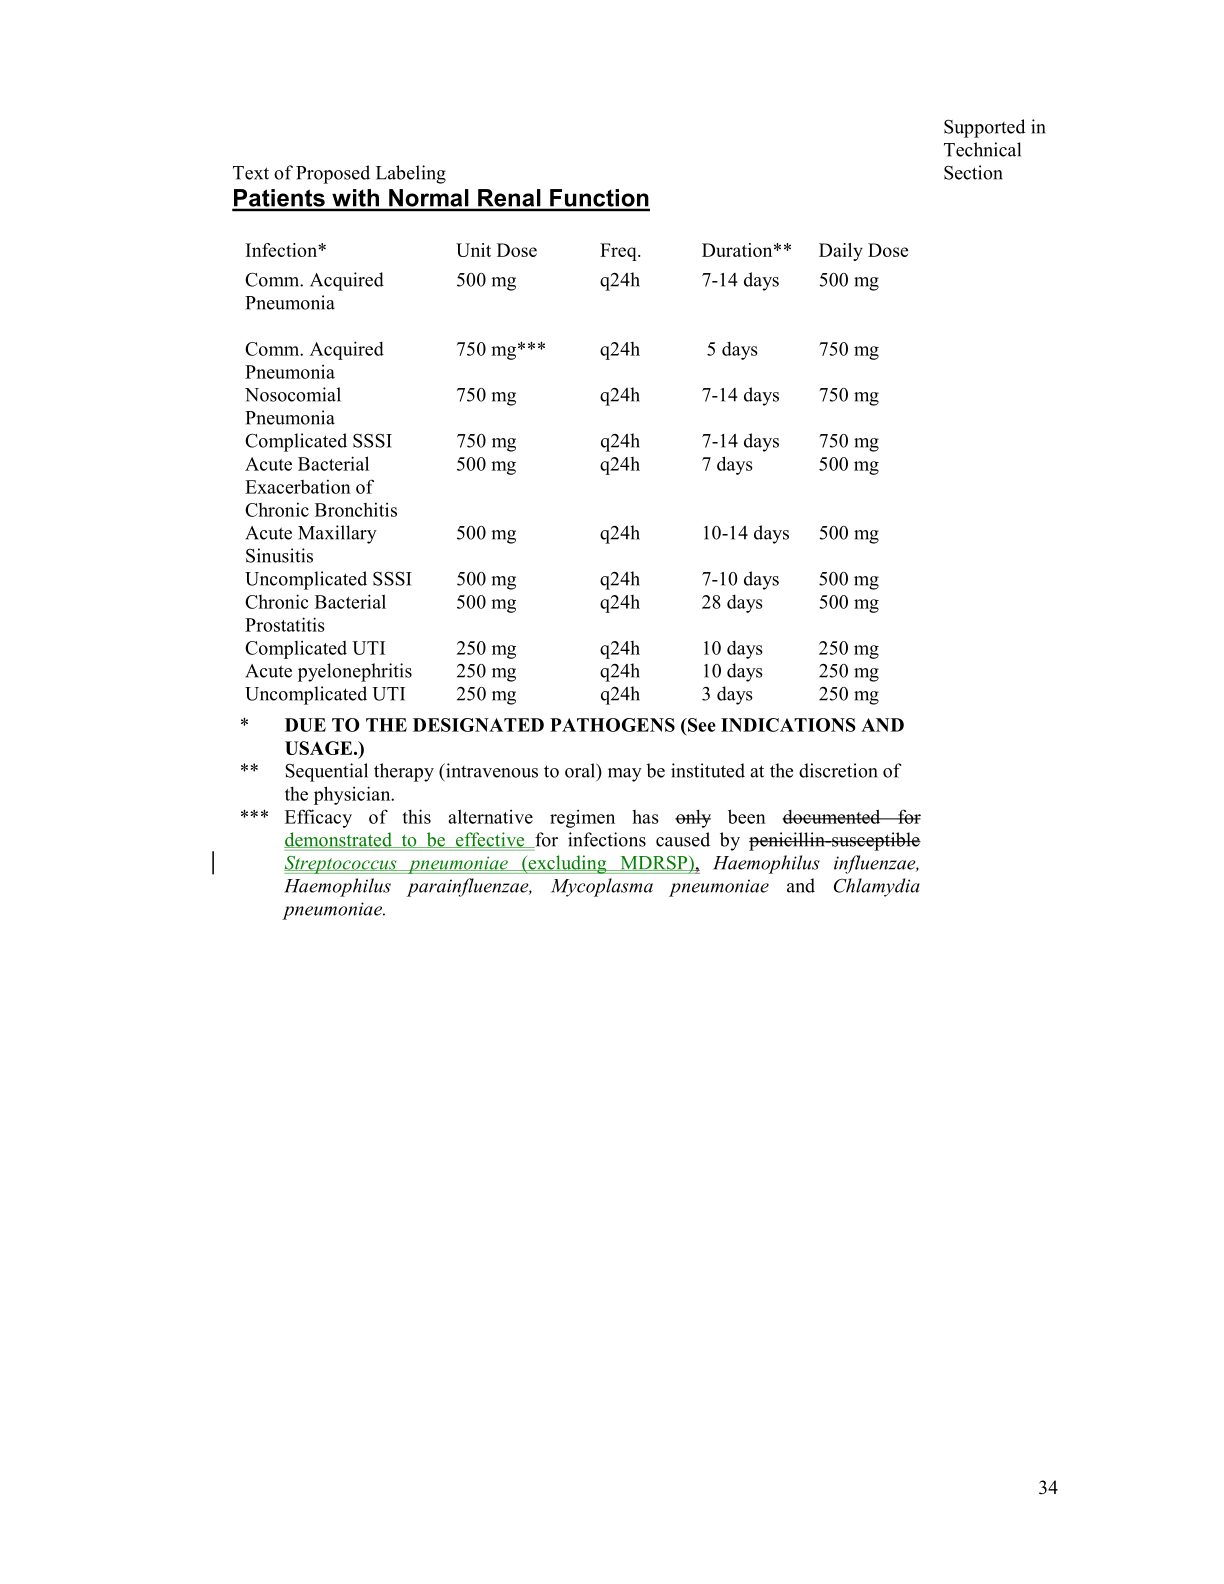nolines: (240, 237, 915, 707)
